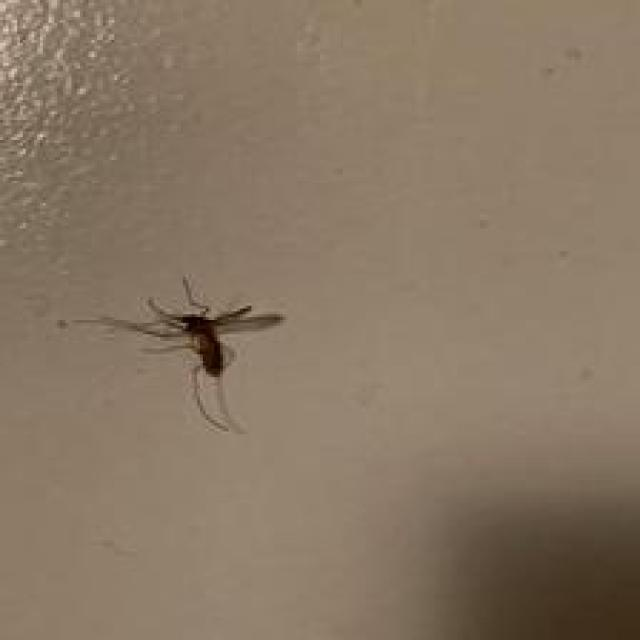Culex: (57, 273, 286, 436)
